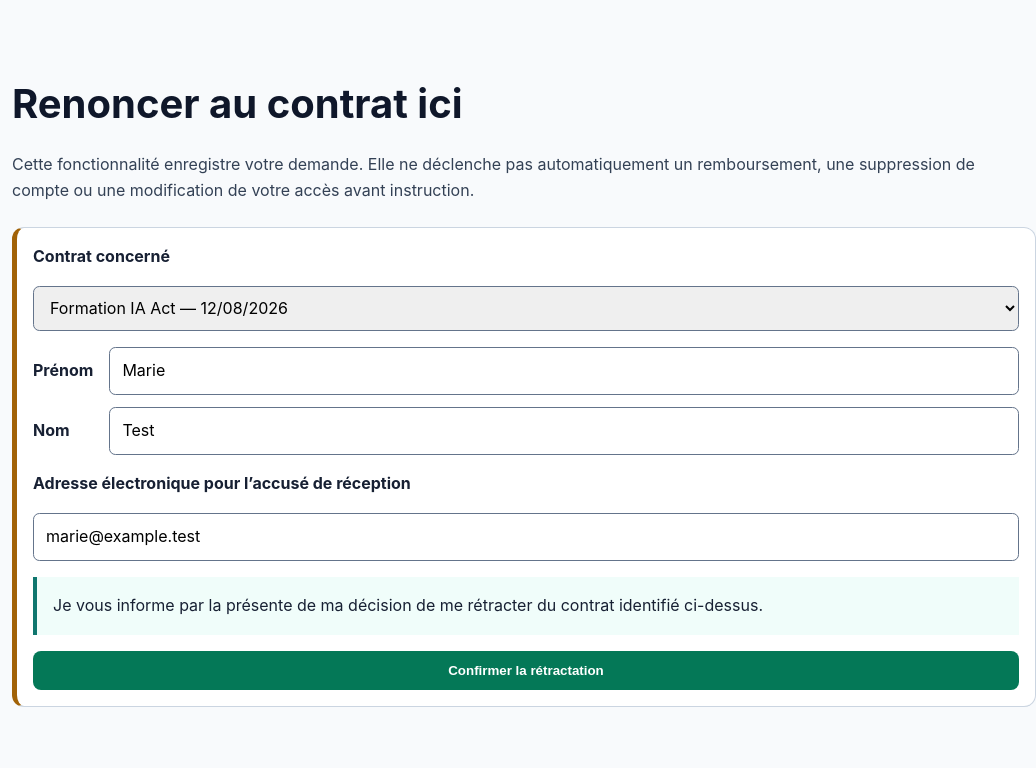
Test: rétractation électronique › identifie le contrat et affiche l accusé durable sans promettre un remboursement
The width and height of the screenshot is (1036, 768).
Click the button "Confirmer la rétractation".
click(526, 670)  # box left=33, top=651, right=1019, bottom=690
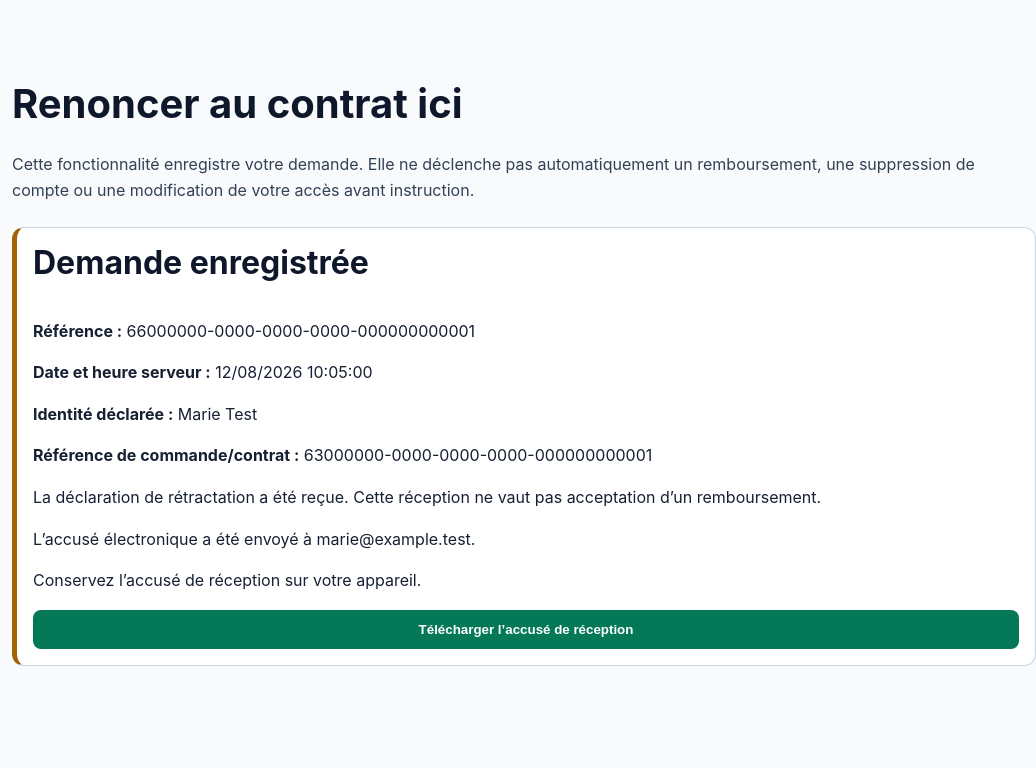
Expected: the heading "Demande enregistrée" is shown, left=33, top=243, right=369, bottom=282
Expected: the text "Identité déclarée : Marie Test" is shown, left=33, top=404, right=257, bottom=424
Expected: the text "63000000-0000-0000-0000-000000000001" is shown, left=304, top=445, right=652, bottom=465
